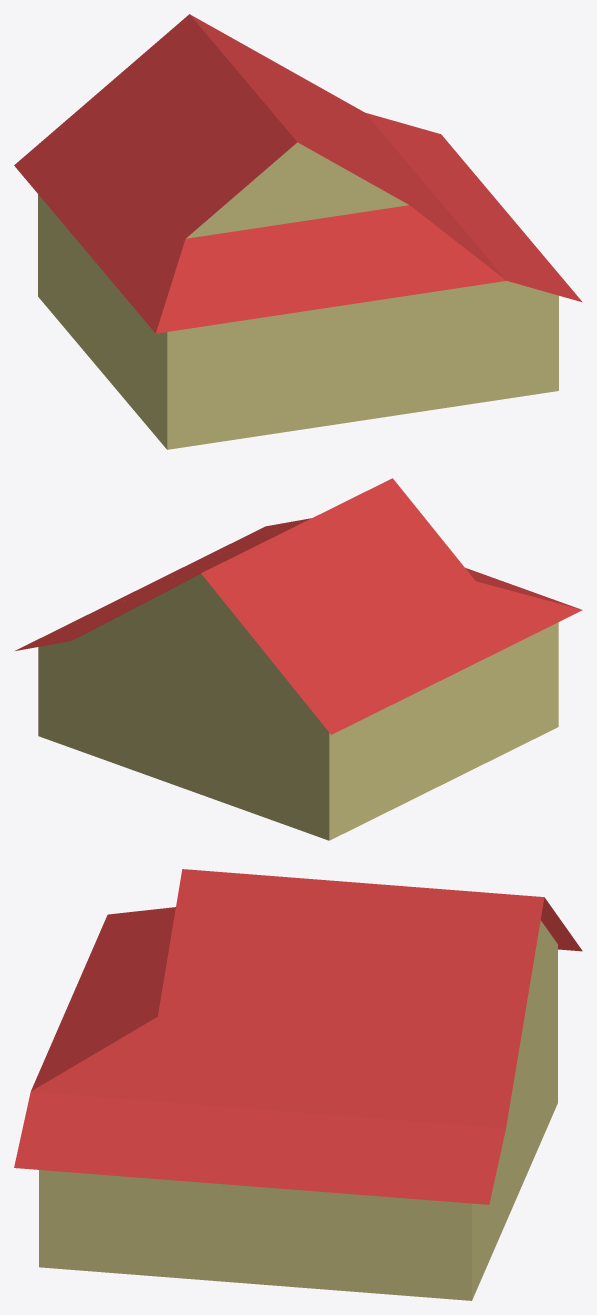
3 views of the same model, one above another, from view 1: azimuth 30°, elevation 25°; view 2: azimuth 150°, elevation 25°; view 3: azimuth 270°, elevation 25° (orthographic). The views are drawn at different scales.
Bounding box in the file's own units: 27.67 × 26.35 × 14.69.
